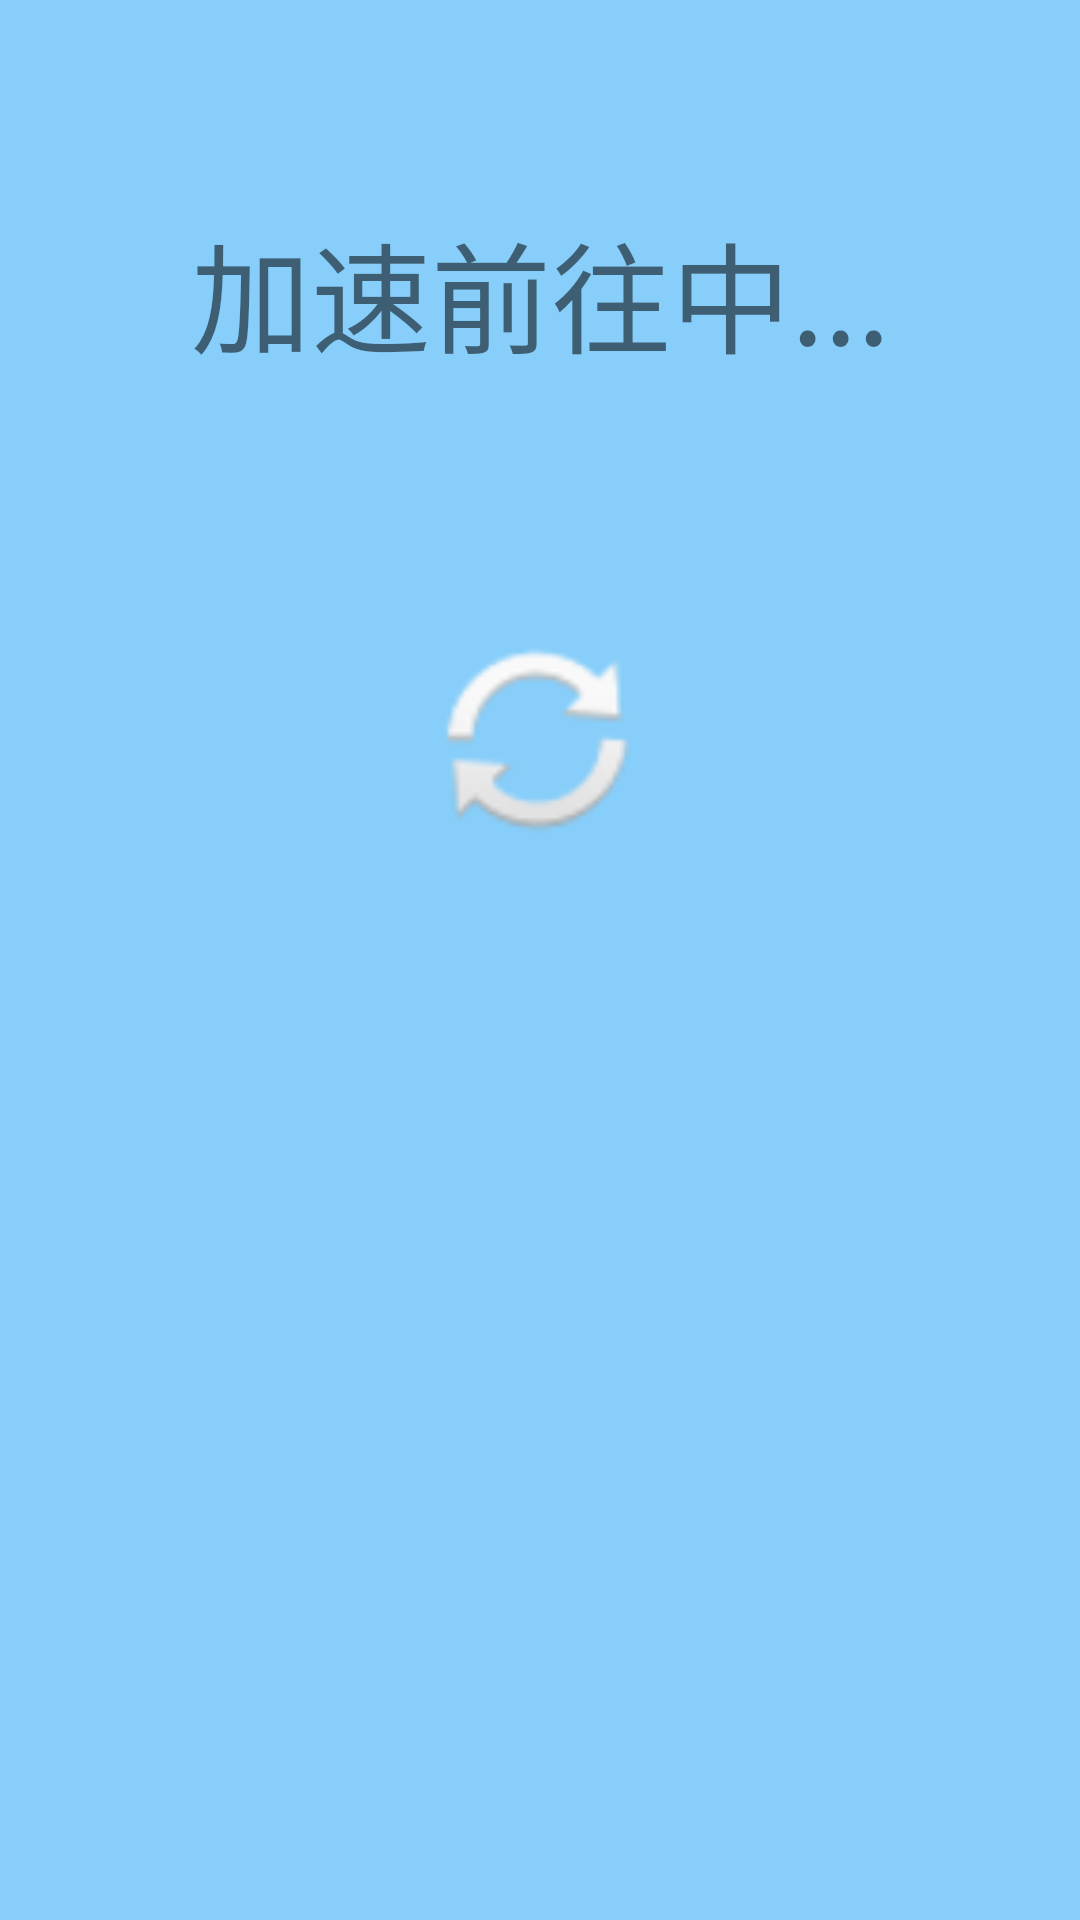

Icons on this 1080px x 1920px Android screen, each with the point to tap as (x=x, y=y):
popup sync: (x=537, y=739)
